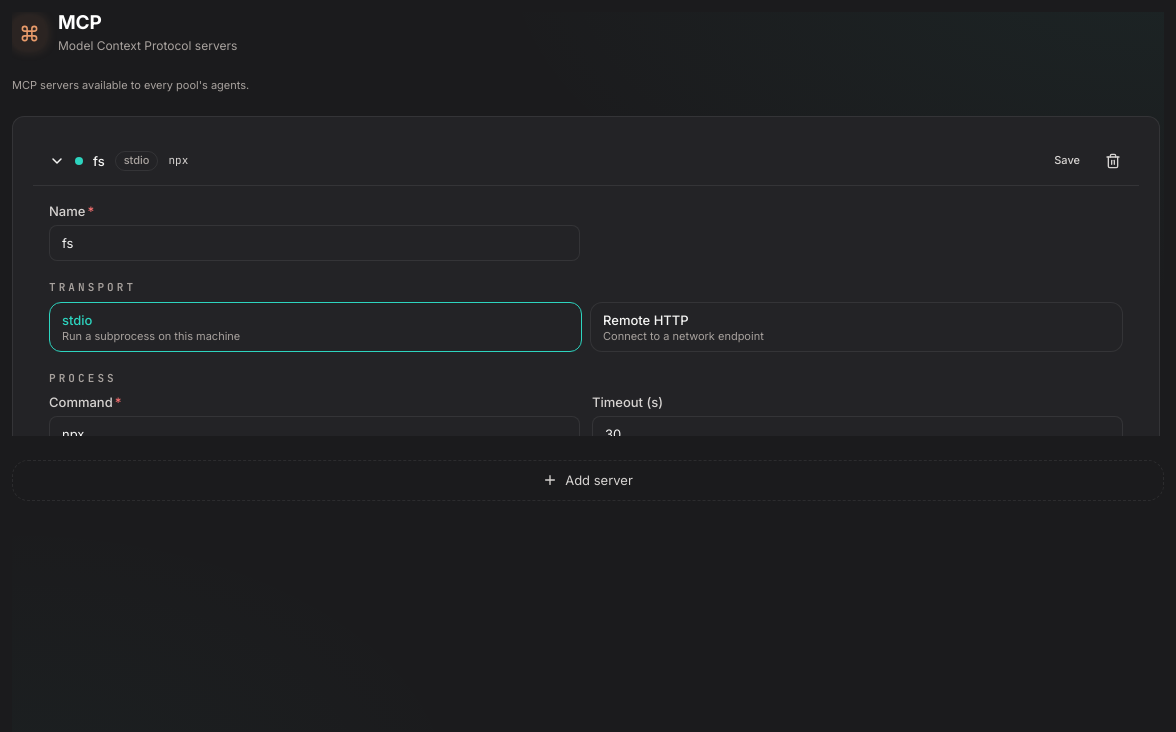
Test: GlobalMcpView › Add server creates a new empty card
Count expanded cards via their Name input (only expanded bodies render).
What coordinates should you click on to do the following:
click the button "Add server"
I would click on:
 (588, 480)
Its box is [12, 460, 1164, 501].
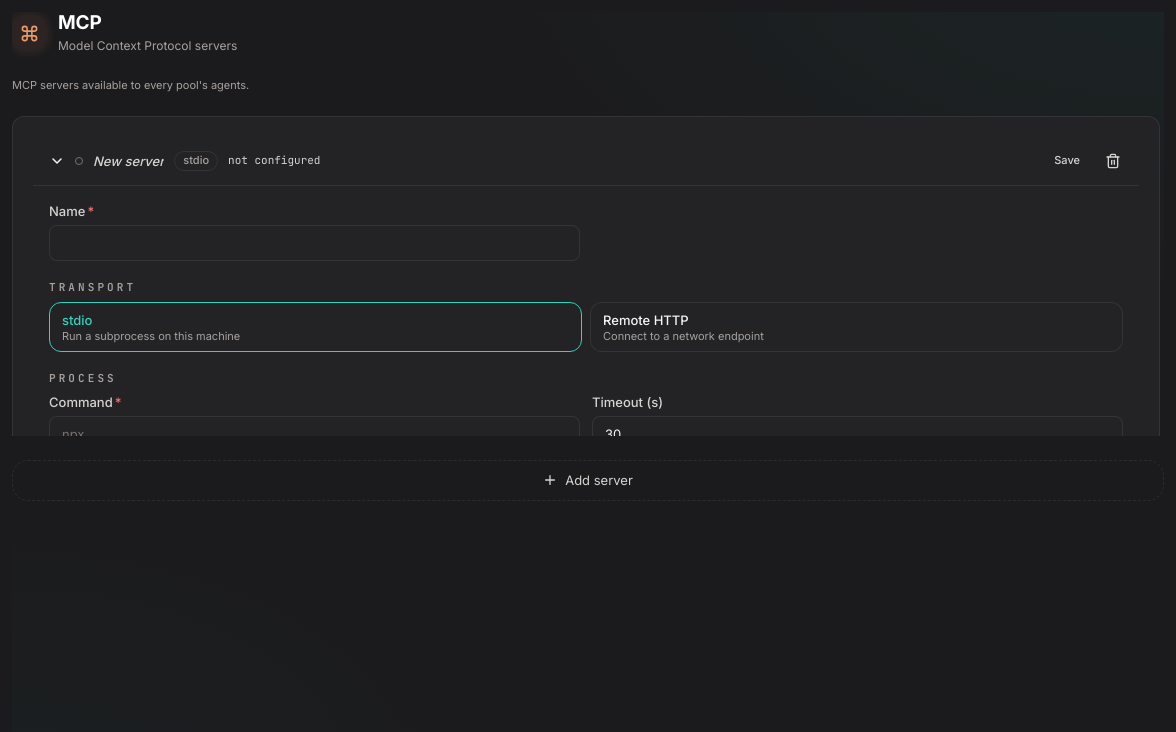
Expected: the number of fields labelled "Name*" is 2
